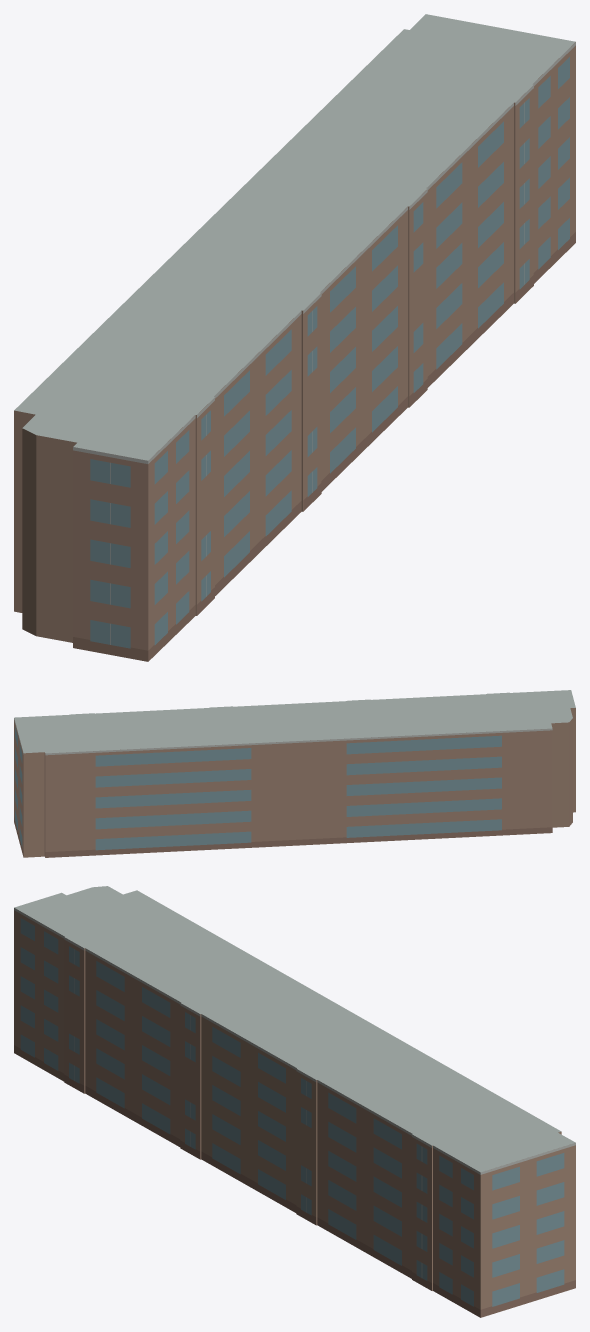
Rendered from survey-upis-32728020.glb.
The picture shows the model from 3 angles, top to bottom: view 1: azimuth 30°, elevation 25°; view 2: azimuth 150°, elevation 25°; view 3: azimuth 270°, elevation 25°; orthographic projection. The views are drawn at different scales.
Visible parts, largest first — view 1: survey-upis-32728020.tmp; view 2: survey-upis-32728020.tmp; view 3: survey-upis-32728020.tmp.
Part boxes in pixels (x1,y1,x2,y2): survey-upis-32728020.tmp: [14, 14, 575, 661]; survey-upis-32728020.tmp: [14, 690, 575, 857]; survey-upis-32728020.tmp: [14, 886, 575, 1317].
Size of the model in its own units: 59.74 by 14.15 by 49.54.
